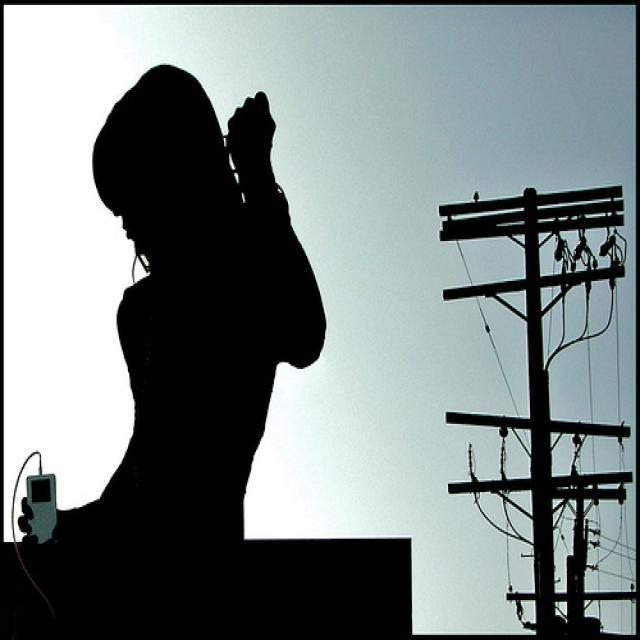crossarm: (443, 259, 627, 301), (440, 203, 625, 241), (439, 185, 621, 223), (448, 472, 634, 504)
pole: (522, 188, 554, 615)
wire: (456, 241, 523, 418), (584, 277, 598, 471), (612, 276, 624, 473)
